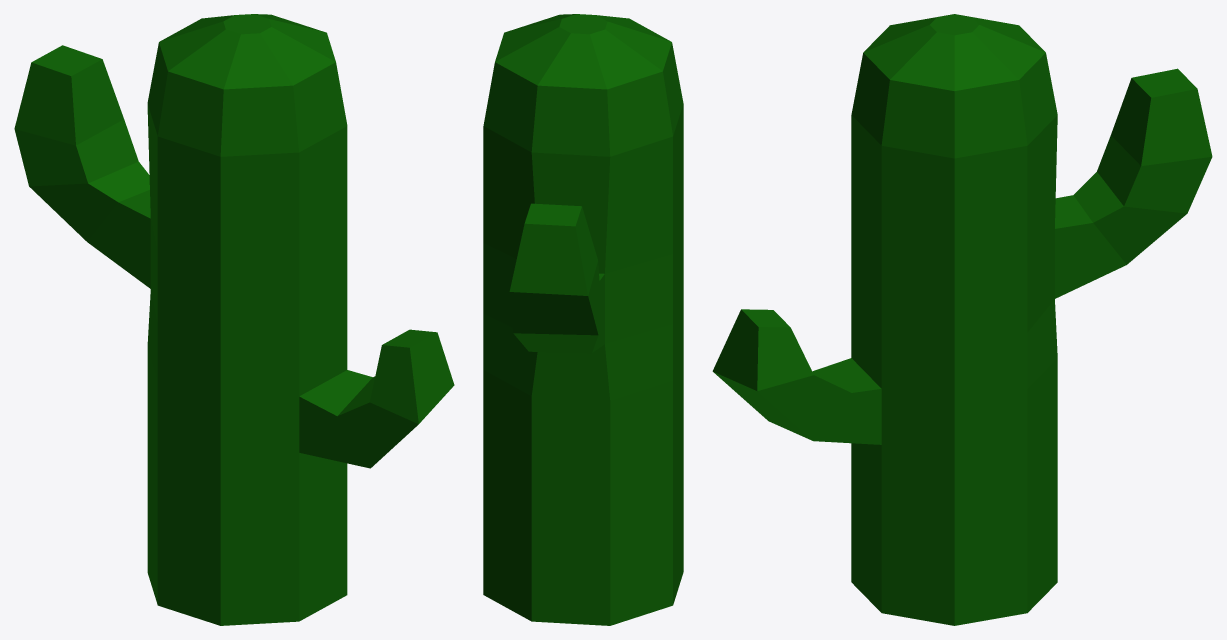
Rendered from cactus.glb.
The picture shows the model from 3 angles, left to right: view 1: azimuth 30°, elevation 25°; view 2: azimuth 150°, elevation 25°; view 3: azimuth 270°, elevation 25°; orthographic projection.
Parts seen in each view (by area): view 1: cactus; view 2: cactus; view 3: cactus.
Boxes of the visible parts, x1=… form: cactus: x1=14, y1=14, x2=454, y2=625; cactus: x1=483, y1=14, x2=683, y2=625; cactus: x1=712, y1=14, x2=1212, y2=625.
Bounding box in the file's own units: 0.7592 × 1.79 × 1.45.
